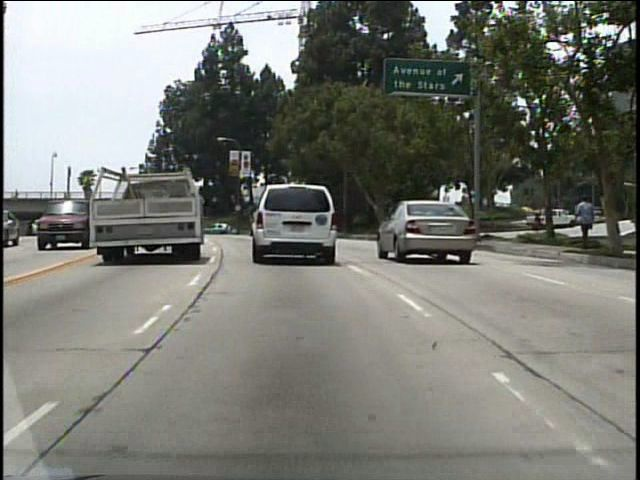person: (569, 191, 595, 255), (12, 186, 21, 205)
